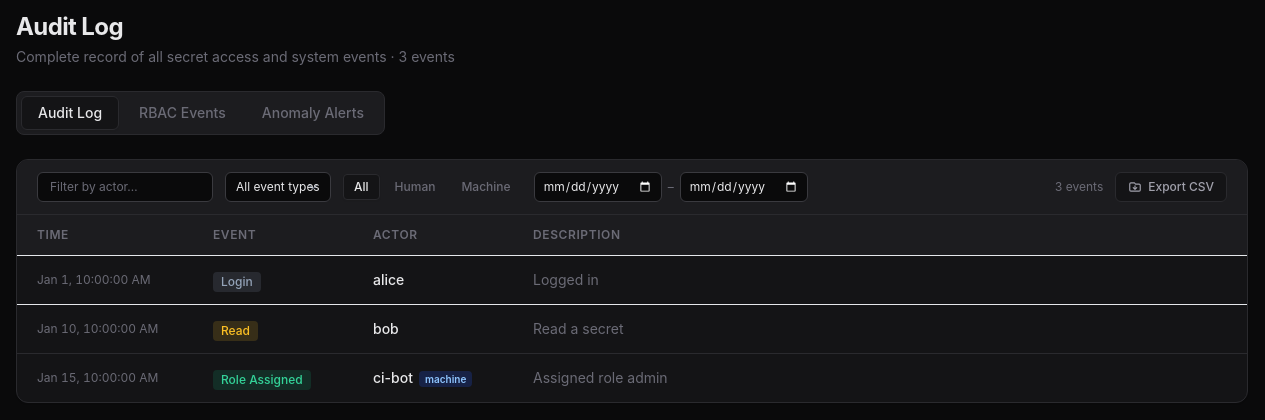
Scenario: AuditLogPage — audit tab › filters by date range
In the date field named "From date": (598, 187) 534,172 -> 662,202, type "2026-01-05"
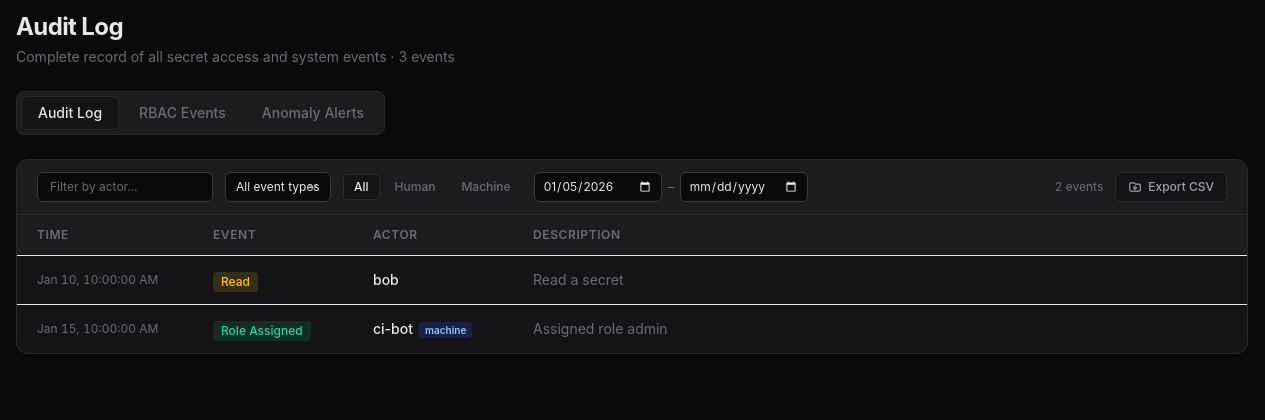
Expected: the text "bob" is shown, 353,256 -> 513,304
Now the text "alice" is gone
